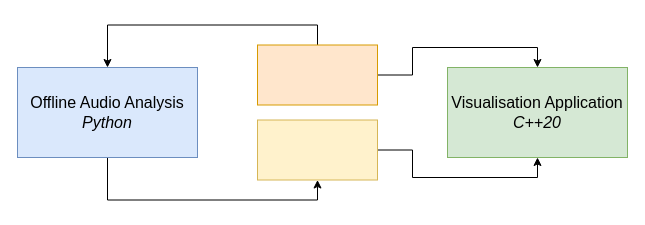
The diagram is 645 pixels wide and 225 high, and some of its shapes have lost their labels. The centre of each missing label's shape, as x and y in pixels:
Cap'n Proto Spectral Data: (x=317, y=149)
FLAC Audio: (x=317, y=74)
